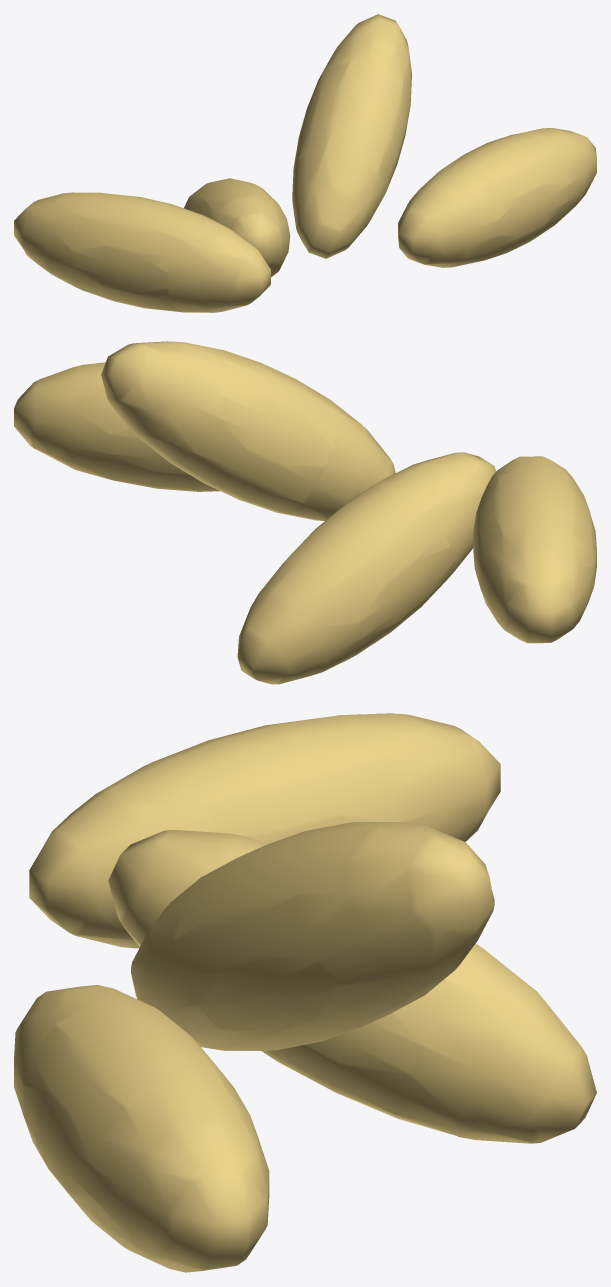
Rendered from maggot.fbx.
3 views of the same model, one above another, from view 1: azimuth 30°, elevation 25°; view 2: azimuth 150°, elevation 25°; view 3: azimuth 270°, elevation 25° (orthographic). The views are drawn at different scales.
Parts seen in each view (by area): view 1: Mball.004, Mball.001, Mball.002, Mball.003; view 2: Mball.001, Mball.003, Mball.004, Mball.002; view 3: Mball.001, Mball.002, Mball.004, Mball.003.
Boxes of the visible parts, x1,y1,x2,y2 form: Mball.004: (14, 192, 270, 312); Mball.001: (292, 14, 411, 258); Mball.002: (398, 128, 596, 267); Mball.003: (184, 178, 290, 277); Mball.001: (101, 341, 395, 520); Mball.003: (237, 452, 495, 684); Mball.004: (473, 456, 596, 643); Mball.002: (14, 362, 220, 491); Mball.001: (131, 822, 494, 1050); Mball.002: (14, 985, 269, 1272); Mball.004: (29, 713, 500, 948); Mball.003: (108, 830, 596, 1143).
Size of the model in its own units: 4.04 by 1.69 by 2.09.
